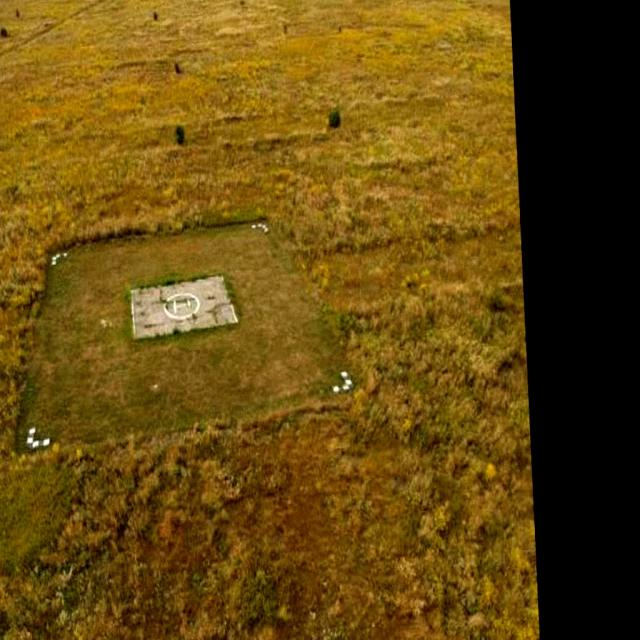helipad: (161, 290, 201, 319)
